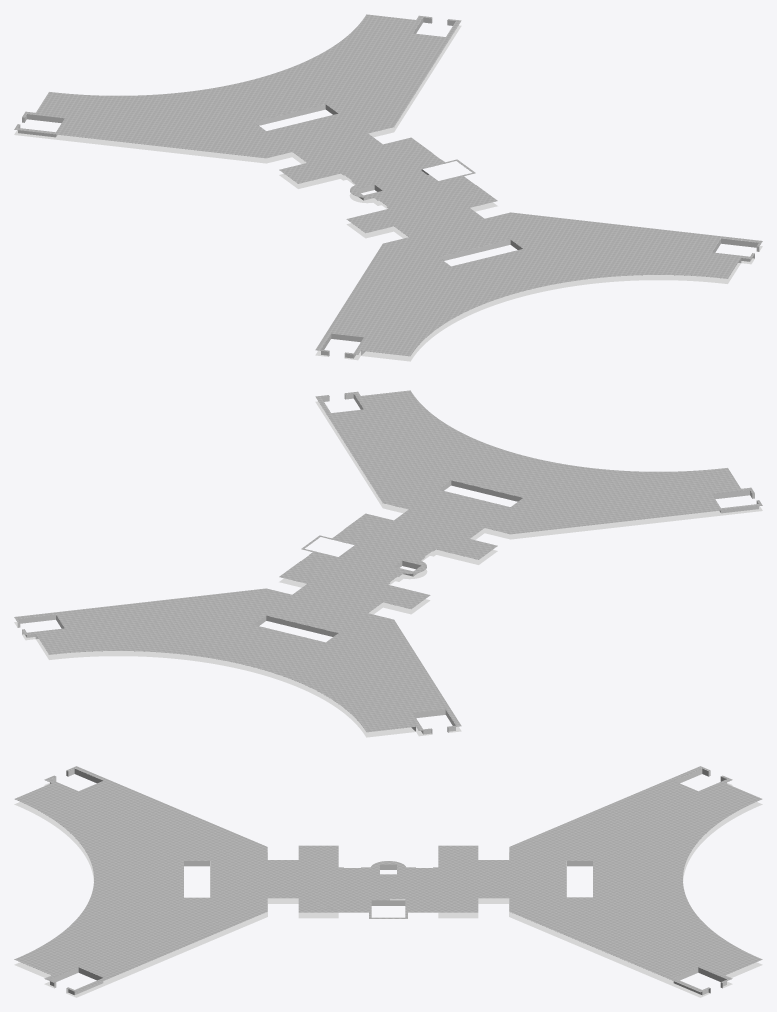
Rendered from GroundP1.dae.
The picture shows the model from 3 angles, top to bottom: view 1: azimuth 30°, elevation 25°; view 2: azimuth 150°, elevation 25°; view 3: azimuth 270°, elevation 25°; orthographic projection. The views are drawn at different scales.
Visible parts, largest first — view 1: SueloP1; view 2: SueloP1; view 3: SueloP1.
Boxes of the visible parts, box(x1,y1,x2,y2) form: SueloP1: box(14, 14, 762, 361); SueloP1: box(14, 390, 762, 737); SueloP1: box(14, 766, 762, 997).
Size of the model in its own units: 6333 by 8854 by 70.5.
2 materials, 2 textured.
